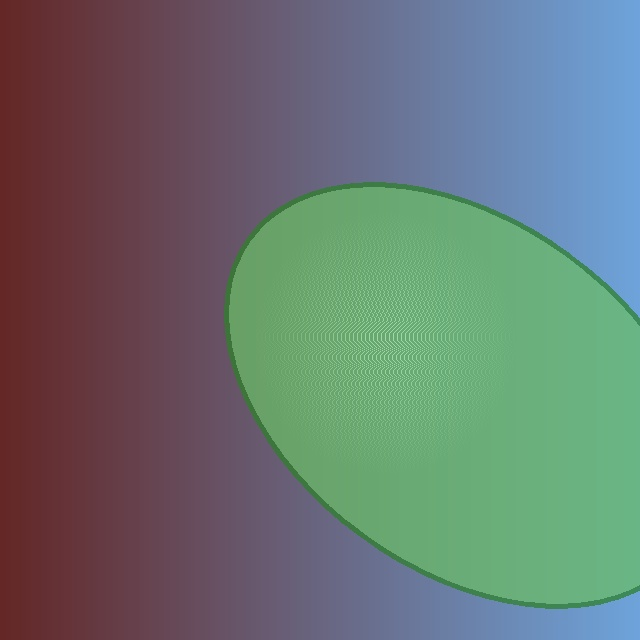lens: (227, 184, 640, 606)
